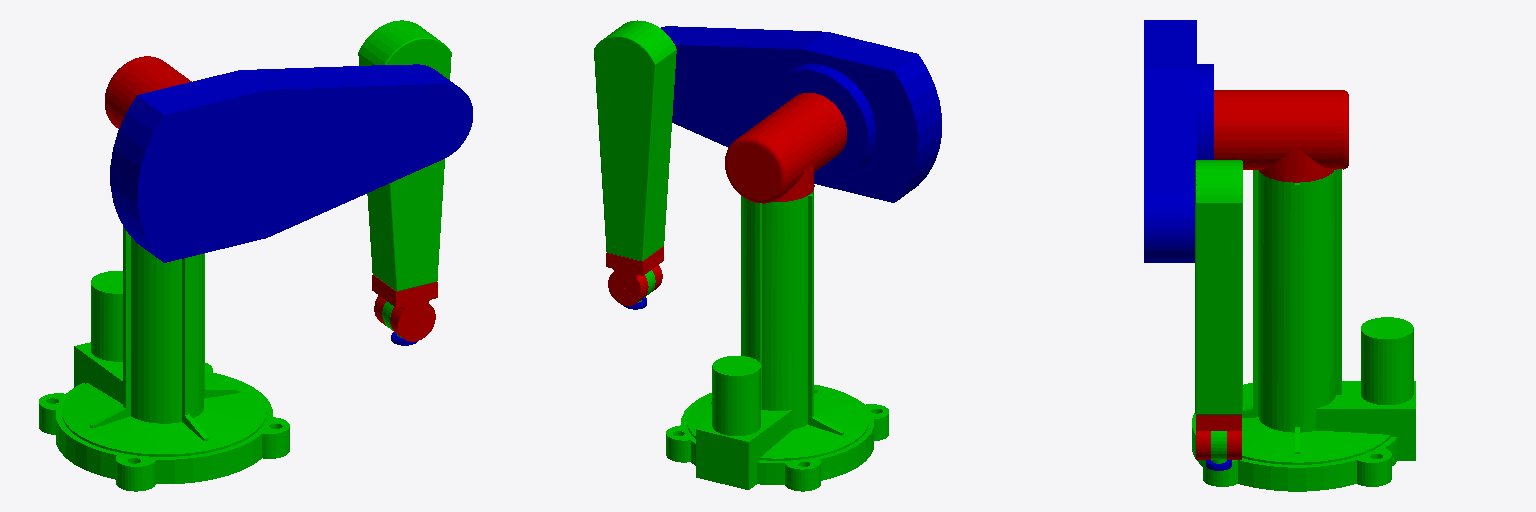
The robot description file, URDF, robot "Puma560":
<?xml version="1.0" ?>
<!-- =================================================================================== -->
<!-- |    This document was autogenerated by xacro from puma560_robot.urdf.xacro       | -->
<!-- |    EDITING THIS FILE BY HAND IS NOT RECOMMENDED                                 | -->
<!-- =================================================================================== -->
<robot name="Puma560" xmlns:xacro="http://www.ros.org/wiki/xacro">
  <material name="blue">
    <color rgba="0 0 0.8 0.8"/>
  </material>
  <material name="red">
    <color rgba="0.8 0 0 0.8"/>
  </material>
  <material name="green">
    <color rgba="0 0.8 0 0.8"/>
  </material>
  <!-- DH Paramaters -->
  <link name="link1">
    <visual>
      <geometry>
        <mesh filename="package://puma560_description/meshes/puma_link1.stl" scale="0.0254 0.0254 0.0254"/>
      </geometry>
      <origin rpy="0 0 1.570796325"/>
      <material name="green"/>
    </visual>
  </link>
  <link name="link2">
    <visual>
      <geometry>
        <mesh filename="package://puma560_description/meshes/puma_link2.stl" scale="0.0254 0.0254 0.0254"/>
      </geometry>
      <origin rpy="0 0 0" xyz="0 0 -0.1"/>
      <material name="red"/>
    </visual>
  </link>
  <joint name="j1" type="revolute">
    <parent link="link1"/>
    <child link="link2"/>
    <origin rpy="1.570796325 0 0" xyz="0 0 0.6718"/>
    <axis xyz="0 1 0"/>
    <!-- This is descibed in child frame -->
    <limit effort="1000.0" lower="-3.14159265" upper="3.14159265" velocity="0"/>
  </joint>
  <link name="link3">
    <visual>
      <geometry>
        <mesh filename="package://puma560_description/meshes/puma_link3.stl" scale="0.0254 0.0254 0.0254"/>
      </geometry>
      <origin xyz="0 0 0.1936"/>
      <material name="blue"/>
    </visual>
  </link>
  <joint name="j2" type="revolute">
    <parent link="link2"/>
    <child link="link3"/>
    <origin rpy="0 0 0" xyz="0 0 0"/>
    <axis xyz="0 0 1"/>
    <!-- This is descibed in child frame -->
    <limit effort="1000.0" lower="-1.570796325" upper="1.570796325" velocity="0"/>
  </joint>
  <link name="link4">
    <visual>
      <geometry>
        <mesh filename="package://puma560_description/meshes/puma_link4.stl" scale="0.0254 0.0254 0.0254"/>
      </geometry>
      <origin rpy="0 0 0" xyz="0 0 0"/>
      <material name="green"/>
    </visual>
  </link>
  <joint name="j3" type="revolute">
    <parent link="link3"/>
    <child link="link4"/>
    <origin rpy="0 0 -1.570796325" xyz="0.4318 -0.0203 0.1501"/>
    <axis xyz="0 0 1"/>
    <!-- This is descibed in child frame -->
    <limit effort="1000.0" lower="-1.570796325" upper="1.570796325" velocity="0"/>
  </joint>
  <link name="link5">
    <visual>
      <geometry>
        <mesh filename="package://puma560_description/meshes/puma_link5.stl" scale="0.0254 0.0254 0.0254"/>
      </geometry>
      <origin rpy="0 0 1.570796325" xyz="0 0 0.3621"/>
      <material name="red"/>
    </visual>
  </link>
  <joint name="j4" type="revolute">
    <parent link="link4"/>
    <child link="link5"/>
    <origin rpy="1.570796325 0 1.570796325" xyz="0 0 0"/>
    <axis xyz="0 0 1"/>
    <limit effort="1000.0" lower="-1.570796325" upper="1.570796325" velocity="0"/>
  </joint>
  <link name="link6">
    <visual>
      <geometry>
        <mesh filename="package://puma560_description/meshes/puma_link6.stl" scale="0.0254 0.0254 0.0254"/>
      </geometry>
      <origin rpy="3.14159265 0 1.570796325" xyz="0 0 0"/>
      <material name="green"/>
    </visual>
  </link>
  <joint name="j5" type="revolute">
    <parent link="link5"/>
    <child link="link6"/>
    <origin rpy="1.570796325 0 0" xyz="0 0 0.4331"/>
    <axis xyz="0 0 1"/>
    <limit effort="1000.0" lower="-1.570796325" upper="1.570796325" velocity="0"/>
  </joint>
  <link name="link7">
    <visual>
      <geometry>
        <mesh filename="package://puma560_description/meshes/puma_link7.stl" scale="0.0254 0.0254 0.0254"/>
      </geometry>
      <origin rpy="0 0 0" xyz="0 0 -0.010"/>
      <material name="blue"/>
    </visual>
  </link>
  <joint name="j6" type="revolute">
    <parent link="link6"/>
    <child link="link7"/>
    <origin rpy="-1.570796325 0 0" xyz="0 0.0558 0"/>
    <axis xyz="0 0 1"/>
    <limit effort="1000.0" lower="-1.570796325" upper="1.570796325" velocity="0"/>
  </joint>
</robot>

--- Facts derived from the render (not from the file) ---
Views: 3 orthographic renders of the robot side by side, from view 1: azimuth 30°, elevation 25°; view 2: azimuth 150°, elevation 25°; view 3: azimuth 270°, elevation 25°.
Robot: Puma560 — 7 links, 6 joints (6 revolute); root link link1; default pose: all joints at 0.
Links seen in each view (by area): view 1: link3, link1, link4, link2, link5; view 2: link1, link3, link4, link2, link5; view 3: link1, link3, link4, link2, link5.
Link boxes in pixels (x1=…): link3: x1=110, y1=64, x2=472, y2=262; link1: x1=39, y1=226, x2=289, y2=491; link4: x1=358, y1=20, x2=451, y2=291; link2: x1=105, y1=56, x2=191, y2=128; link5: x1=372, y1=275, x2=437, y2=341; link1: x1=666, y1=190, x2=888, y2=491; link3: x1=661, y1=26, x2=941, y2=202; link4: x1=594, y1=20, x2=676, y2=260; link2: x1=725, y1=93, x2=846, y2=203; link5: x1=606, y1=246, x2=663, y2=305; link1: x1=1192, y1=169, x2=1415, y2=491; link3: x1=1144, y1=20, x2=1213, y2=262; link4: x1=1195, y1=160, x2=1242, y2=414; link2: x1=1214, y1=90, x2=1348, y2=182; link5: x1=1196, y1=415, x2=1241, y2=459.
Size in the robot's own frame: 0.735 by 0.5238 by 0.8242 metres.
7 mesh visuals loaded from 7 distinct referenced files (7 binary STL).